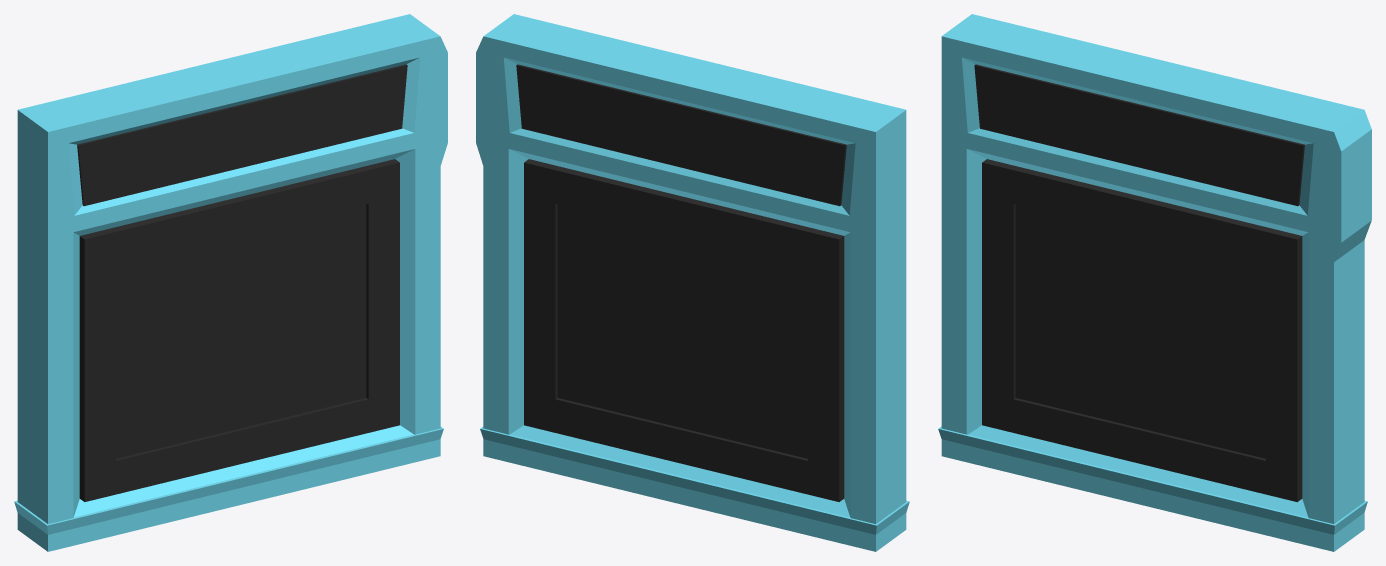
The model's file is Cartucho Transparente.fbx.
3 views of the same model, side by side, from view 1: azimuth 30°, elevation 25°; view 2: azimuth 150°, elevation 25°; view 3: azimuth 330°, elevation 25° (orthographic).
Parts seen in each view (by area): view 1: Cartucho Transparente.001; view 2: Cartucho Transparente.001; view 3: Cartucho Transparente.001.
Boxes of the visible parts, x1,y1,x2,y2 form: Cartucho Transparente.001: [14, 14, 447, 551]; Cartucho Transparente.001: [476, 14, 909, 551]; Cartucho Transparente.001: [938, 14, 1371, 551].
Bounding box in the file's own units: 129 × 18.4 × 129.
